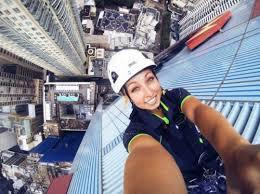helmet: (107, 49, 157, 93)
